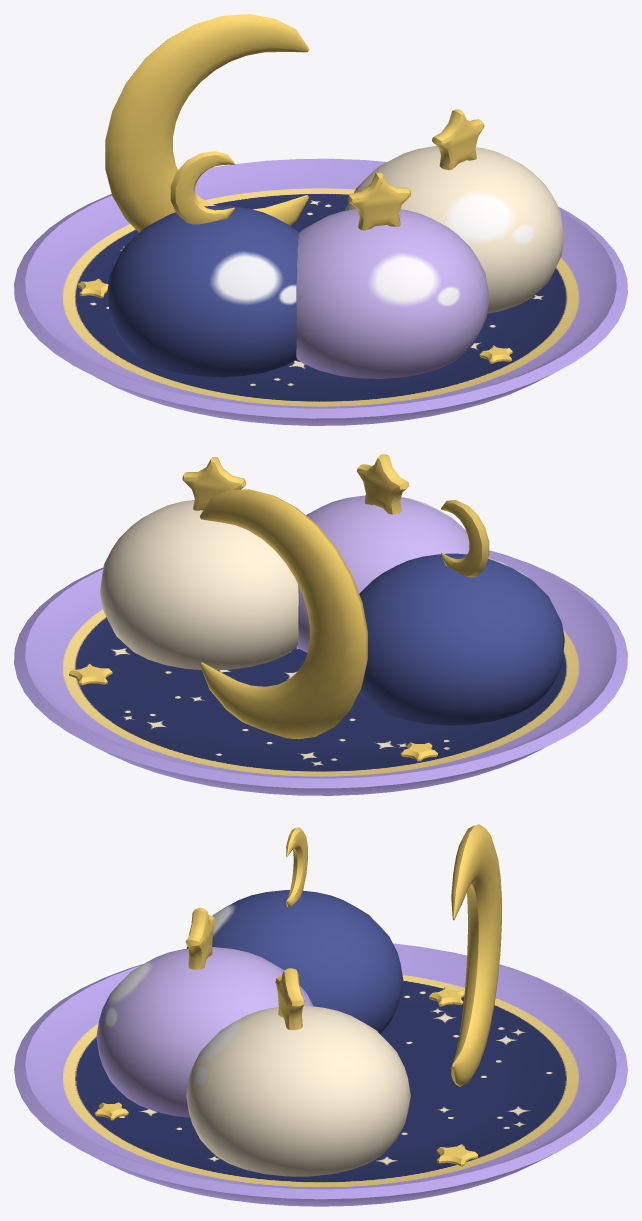
Rendered from MoonlightMochi.glb.
3 views of the same model, one above another, from view 1: azimuth 30°, elevation 25°; view 2: azimuth 150°, elevation 25°; view 3: azimuth 270°, elevation 25° (orthographic).
Visible parts, largest first — view 1: MoonlightMochi; view 2: MoonlightMochi; view 3: MoonlightMochi.
Boxes of the visible parts, bbox=[...] form: MoonlightMochi: bbox=[14, 14, 627, 425]; MoonlightMochi: bbox=[14, 454, 627, 795]; MoonlightMochi: bbox=[14, 824, 627, 1206].
Size of the model in its own units: 1.64 by 0.7608 by 1.64.
Materials: 5 (5 with a texture image).
